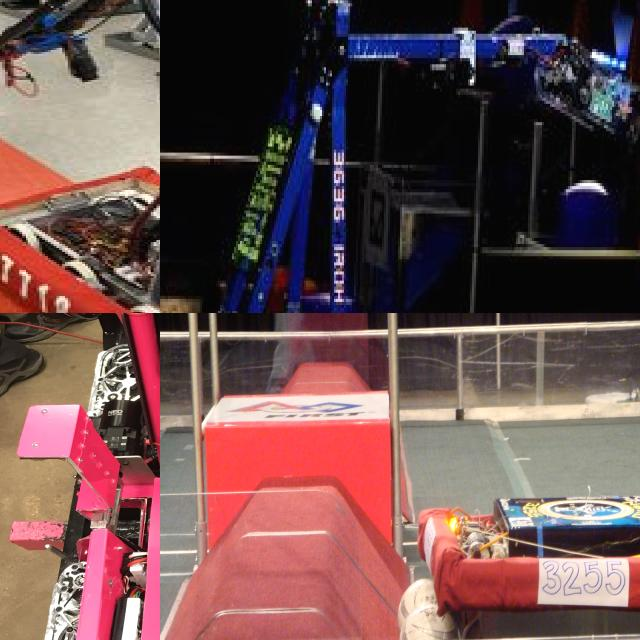FRC-Robots: (160, 0, 640, 313), (0, 0, 160, 313), (12, 313, 160, 640), (410, 478, 640, 640)
